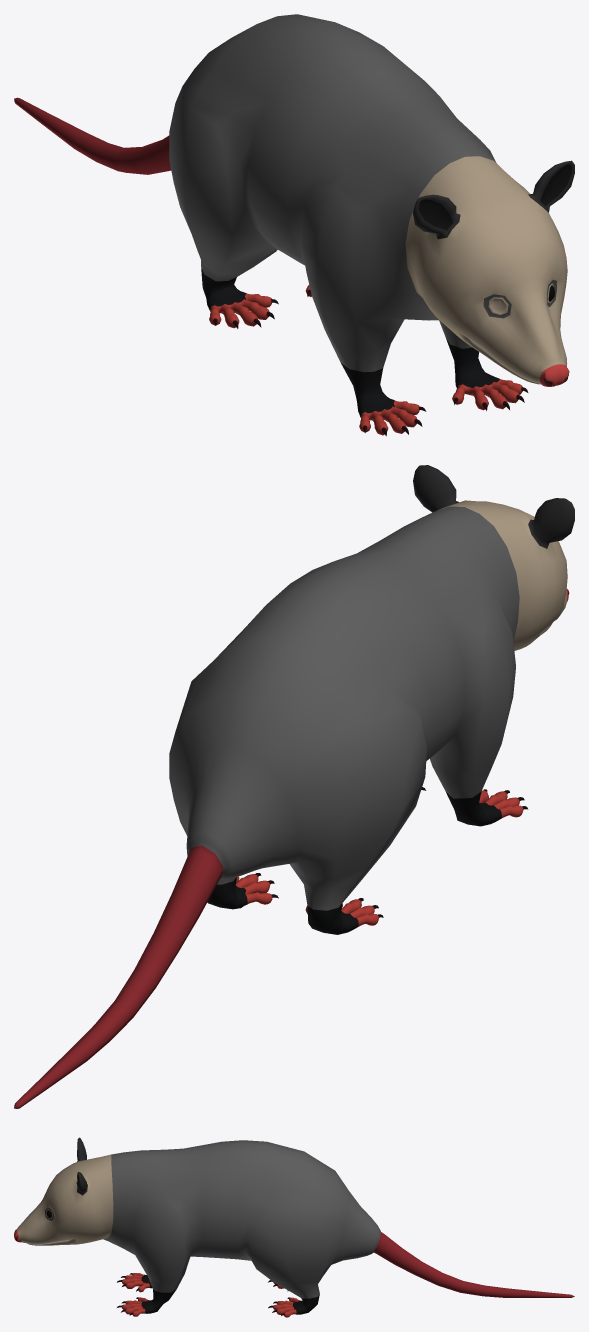
File: opossum.obj
3 renders of one model, top to bottom at view 1: azimuth 30°, elevation 25°; view 2: azimuth 150°, elevation 25°; view 3: azimuth 270°, elevation 25°, orthographic. The views are drawn at different scales.
Visible parts, largest first — view 1: opossum; view 2: opossum; view 3: opossum.
Boxes of the visible parts, left/top/right/bottom form: opossum: left=14, top=14, right=574, bottom=436; opossum: left=14, top=465, right=574, bottom=1108; opossum: left=14, top=1137, right=574, bottom=1317.
Bounding box in the file's own units: 0.3424 × 0.4457 × 1.47.
